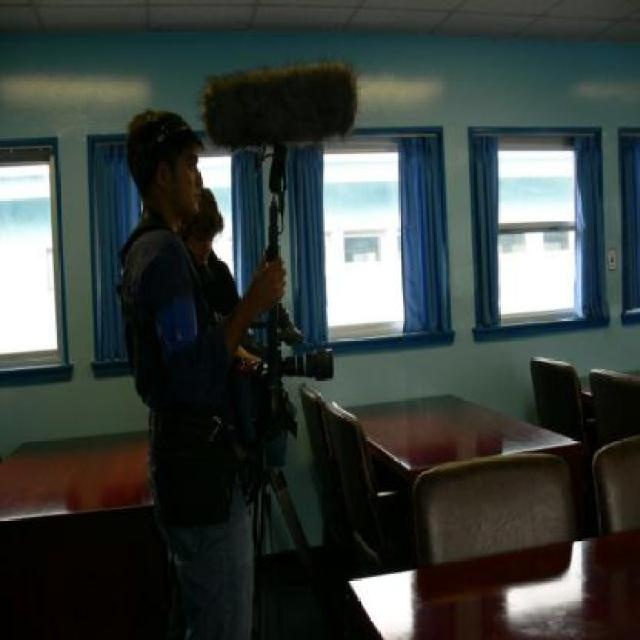obstacle: (175, 190, 267, 538)
